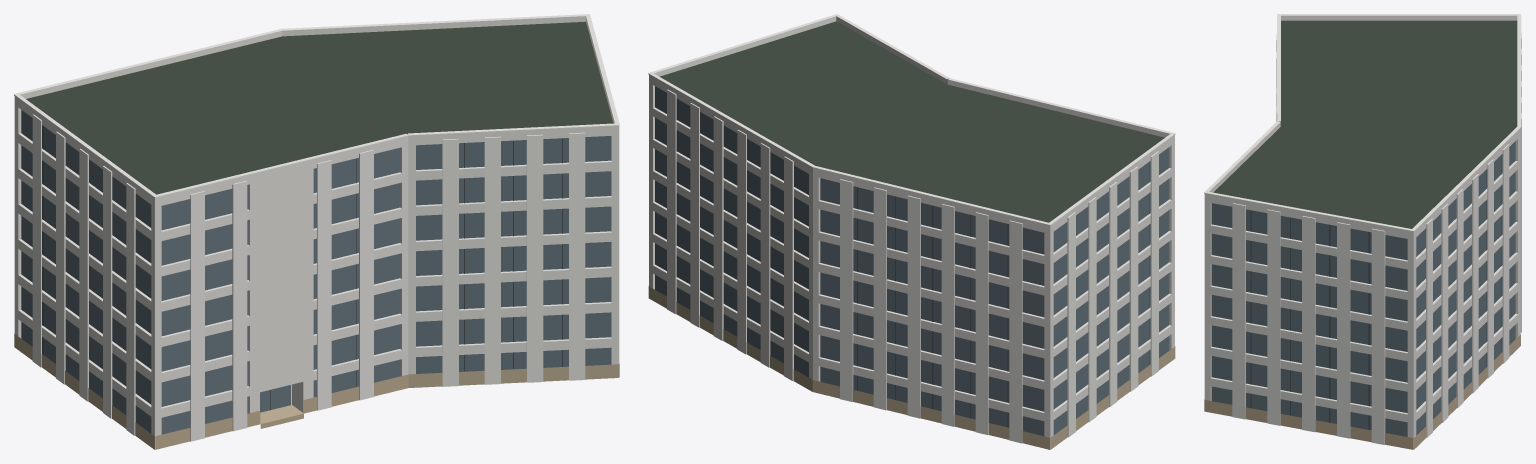
3 renders of one model, left to right at view 1: azimuth 30°, elevation 25°; view 2: azimuth 150°, elevation 25°; view 3: azimuth 270°, elevation 25°, orthographic. The views are drawn at different scales.
Parts seen in each view (by area): view 1: eh203__roof, eh203__glass, eh203__wall, eh203__trim, eh203__parapet, eh203__base, eh203__frame; view 2: eh203__glass, eh203__roof, eh203__trim, eh203__wall, eh203__parapet, eh203__base, eh203__frame; view 3: eh203__roof, eh203__trim, eh203__glass, eh203__wall, eh203__parapet, eh203__base, eh203__frame.
Boxes of the visible parts, bbox=[...] form: eh203__roof: bbox=[26, 21, 613, 194]; eh203__glass: bbox=[21, 110, 611, 434]; eh203__wall: bbox=[14, 100, 619, 449]; eh203__trim: bbox=[14, 14, 619, 441]; eh203__parapet: bbox=[14, 16, 619, 202]; eh203__base: bbox=[14, 333, 619, 449]; eh203__frame: bbox=[42, 125, 562, 410]; eh203__glass: bbox=[655, 86, 1169, 436]; eh203__roof: bbox=[660, 21, 1164, 222]; eh203__trim: bbox=[648, 14, 1175, 443]; eh203__wall: bbox=[649, 78, 1174, 449]; eh203__parapet: bbox=[649, 16, 1174, 229]; eh203__base: bbox=[648, 286, 1175, 449]; eh203__frame: bbox=[677, 99, 1149, 427]; eh203__roof: bbox=[1213, 20, 1517, 228]; eh203__trim: bbox=[1204, 14, 1521, 444]; eh203__glass: bbox=[1211, 141, 1515, 436]; eh203__wall: bbox=[1204, 132, 1520, 449]; eh203__parapet: bbox=[1204, 15, 1520, 235]; eh203__base: bbox=[1204, 334, 1520, 449]; eh203__frame: bbox=[1250, 155, 1501, 429].
Bounding box in the file's own units: 47.29 × 22.6 × 29.22.
